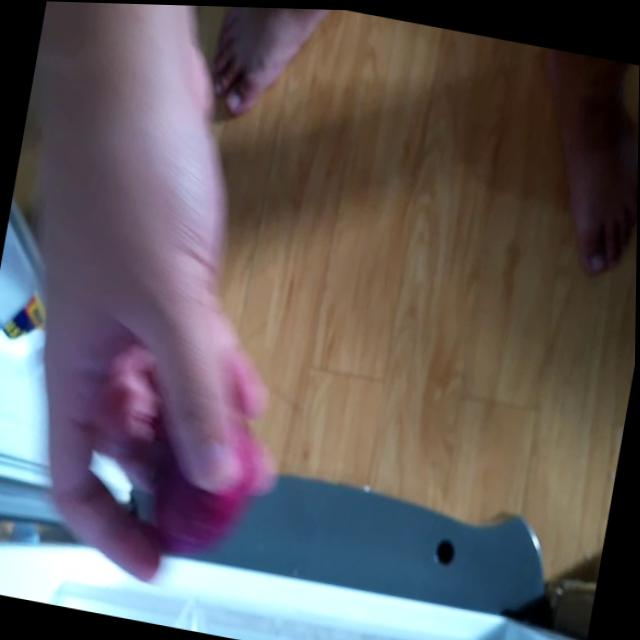onion: (134, 385, 283, 568)
